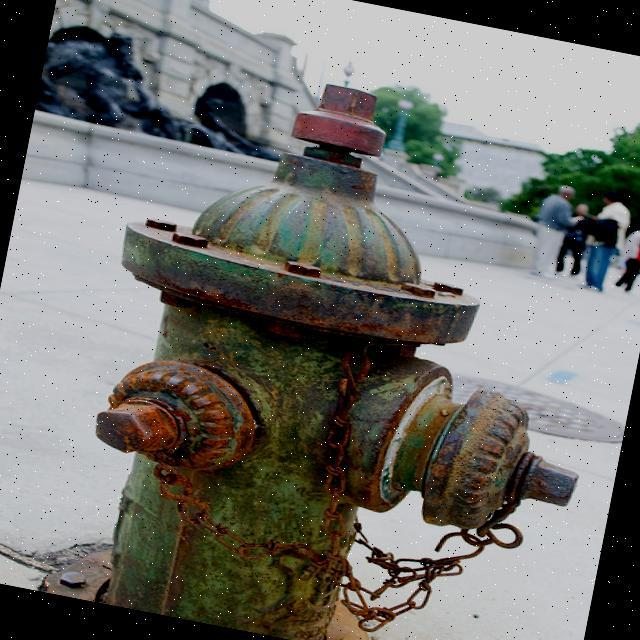fire_hydrant: (26, 42, 640, 640)
